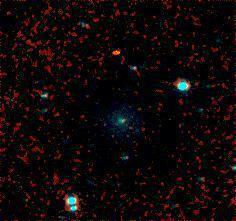star: (101, 38, 131, 68)
